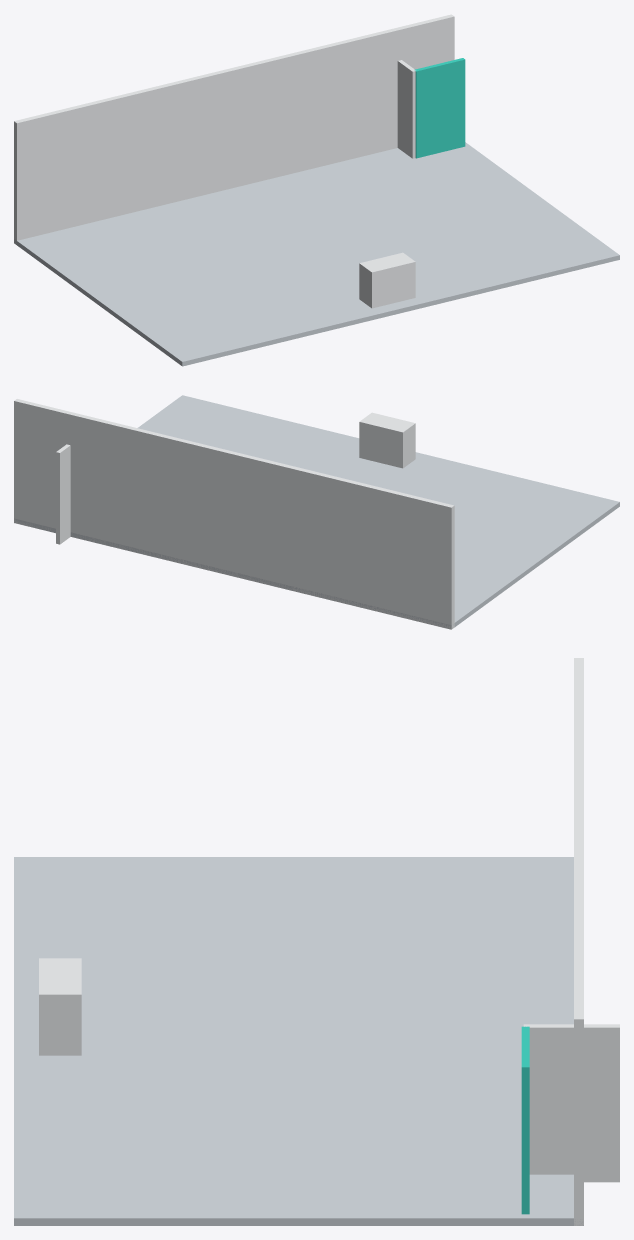
The picture shows the model from 3 angles, top to bottom: view 1: azimuth 30°, elevation 25°; view 2: azimuth 150°, elevation 25°; view 3: azimuth 270°, elevation 25°; orthographic projection. The views are drawn at different scales.
Visible parts, largest first — view 1: Exhibition Booth Concept; view 2: Exhibition Booth Concept; view 3: Exhibition Booth Concept.
Boxes of the visible parts, box(x1,y1,x2,y2) form: Exhibition Booth Concept: box(14, 14, 619, 366); Exhibition Booth Concept: box(14, 395, 619, 629); Exhibition Booth Concept: box(14, 658, 619, 1225).
Bounding box in the file's own units: 12 × 3.2 × 8.51.
